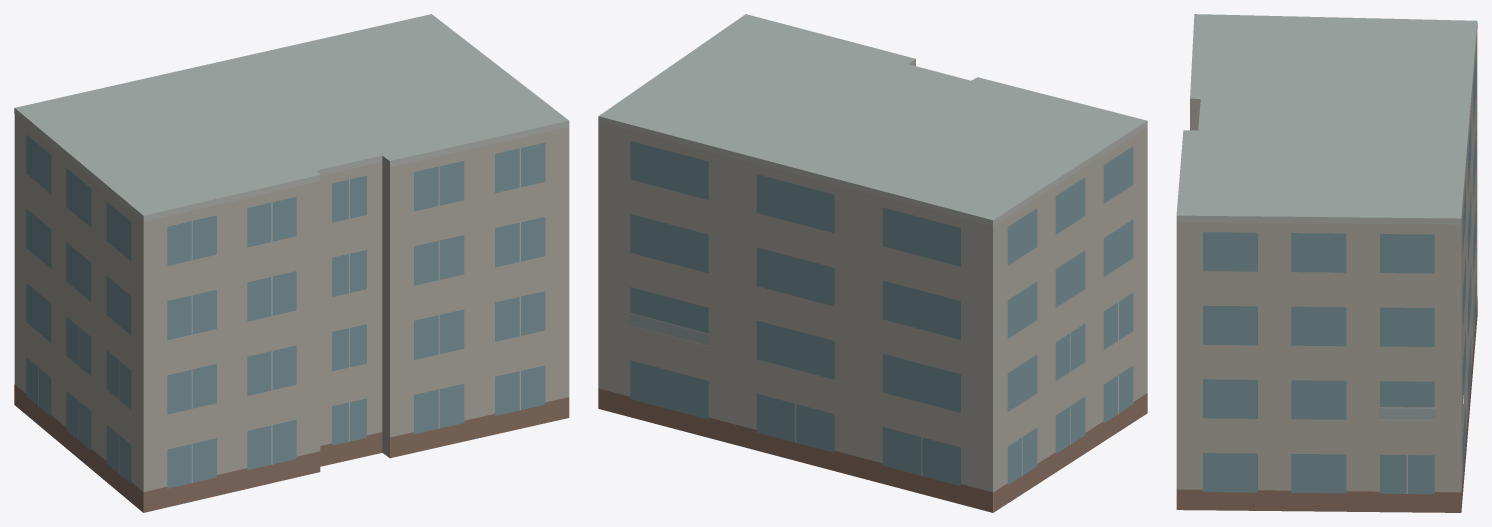
File: survey-upis-32931202.glb
3 views of the same model, side by side, from view 1: azimuth 30°, elevation 25°; view 2: azimuth 150°, elevation 25°; view 3: azimuth 270°, elevation 25° (orthographic).
Parts seen in each view (by area): view 1: survey-upis-32931202.tmp; view 2: survey-upis-32931202.tmp; view 3: survey-upis-32931202.tmp.
Part boxes in pixels (box(x1,y1,x2,y2)): survey-upis-32931202.tmp: box(14, 14, 569, 512); survey-upis-32931202.tmp: box(598, 14, 1147, 512); survey-upis-32931202.tmp: box(1176, 14, 1477, 512).
Size of the model in its own units: 17.52 by 11.75 by 10.9.
